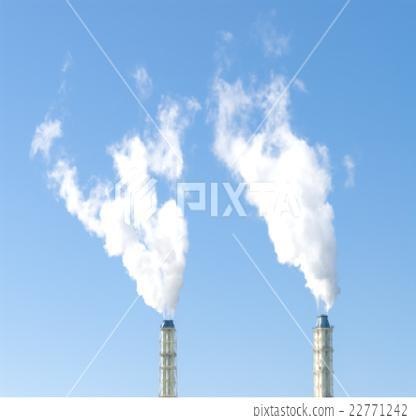smoke: (100, 134, 183, 318), (257, 160, 342, 308)
